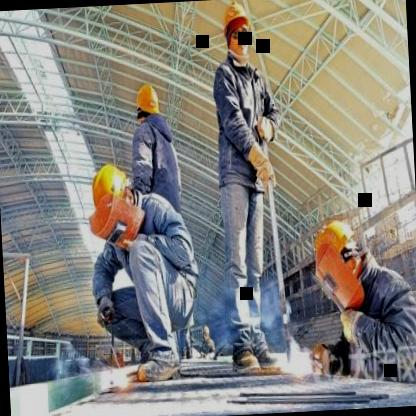helmet: (86, 158, 136, 235), (218, 1, 258, 67), (312, 218, 356, 278), (132, 80, 161, 128)
